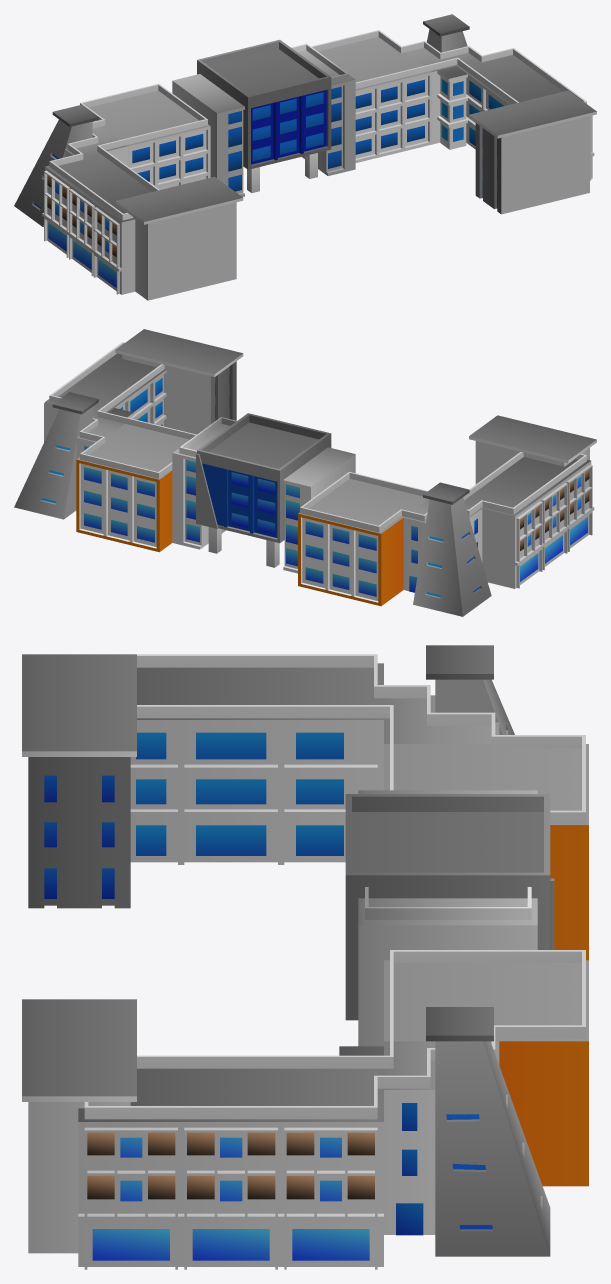
Rendered from Gedung Utama Deli.fbx.
3 views of the same model, one above another, from view 1: azimuth 30°, elevation 25°; view 2: azimuth 150°, elevation 25°; view 3: azimuth 270°, elevation 25° (orthographic). The views are drawn at different scales.
Visible parts, largest first — view 1: Gedung Utama Deli; view 2: Gedung Utama Deli; view 3: Gedung Utama Deli.
Boxes of the visible parts, <box> form: Gedung Utama Deli: <box>14,14,596,300</box>; Gedung Utama Deli: <box>14,329,596,616</box>; Gedung Utama Deli: <box>22,645,588,1269</box>.
Size of the model in its own units: 8579 by 1755 by 4428.
Materials: 1 (1 with a texture image).
